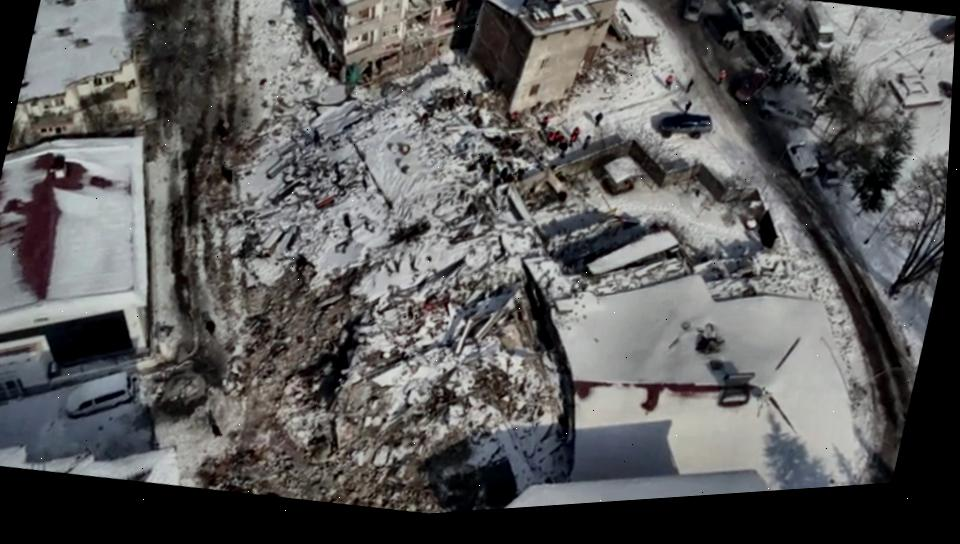kapali: (144, 55, 351, 505)
